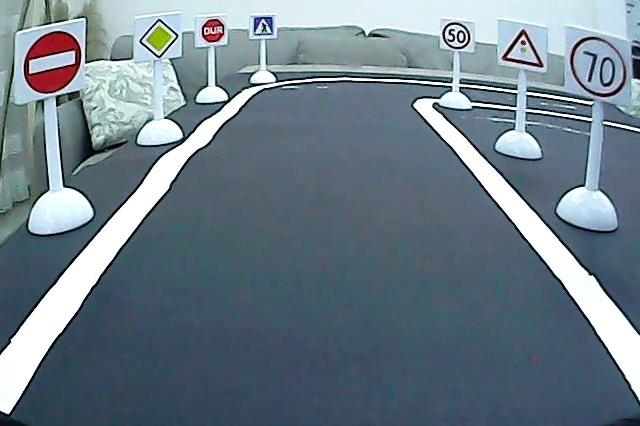do not enter: (20, 27, 83, 99)
pedestrian crossing: (253, 15, 276, 39)
red light: (499, 25, 545, 71)
speed limit 50: (441, 22, 472, 51)
speed limit 70: (566, 34, 631, 99)
stop sign: (199, 18, 226, 45)
